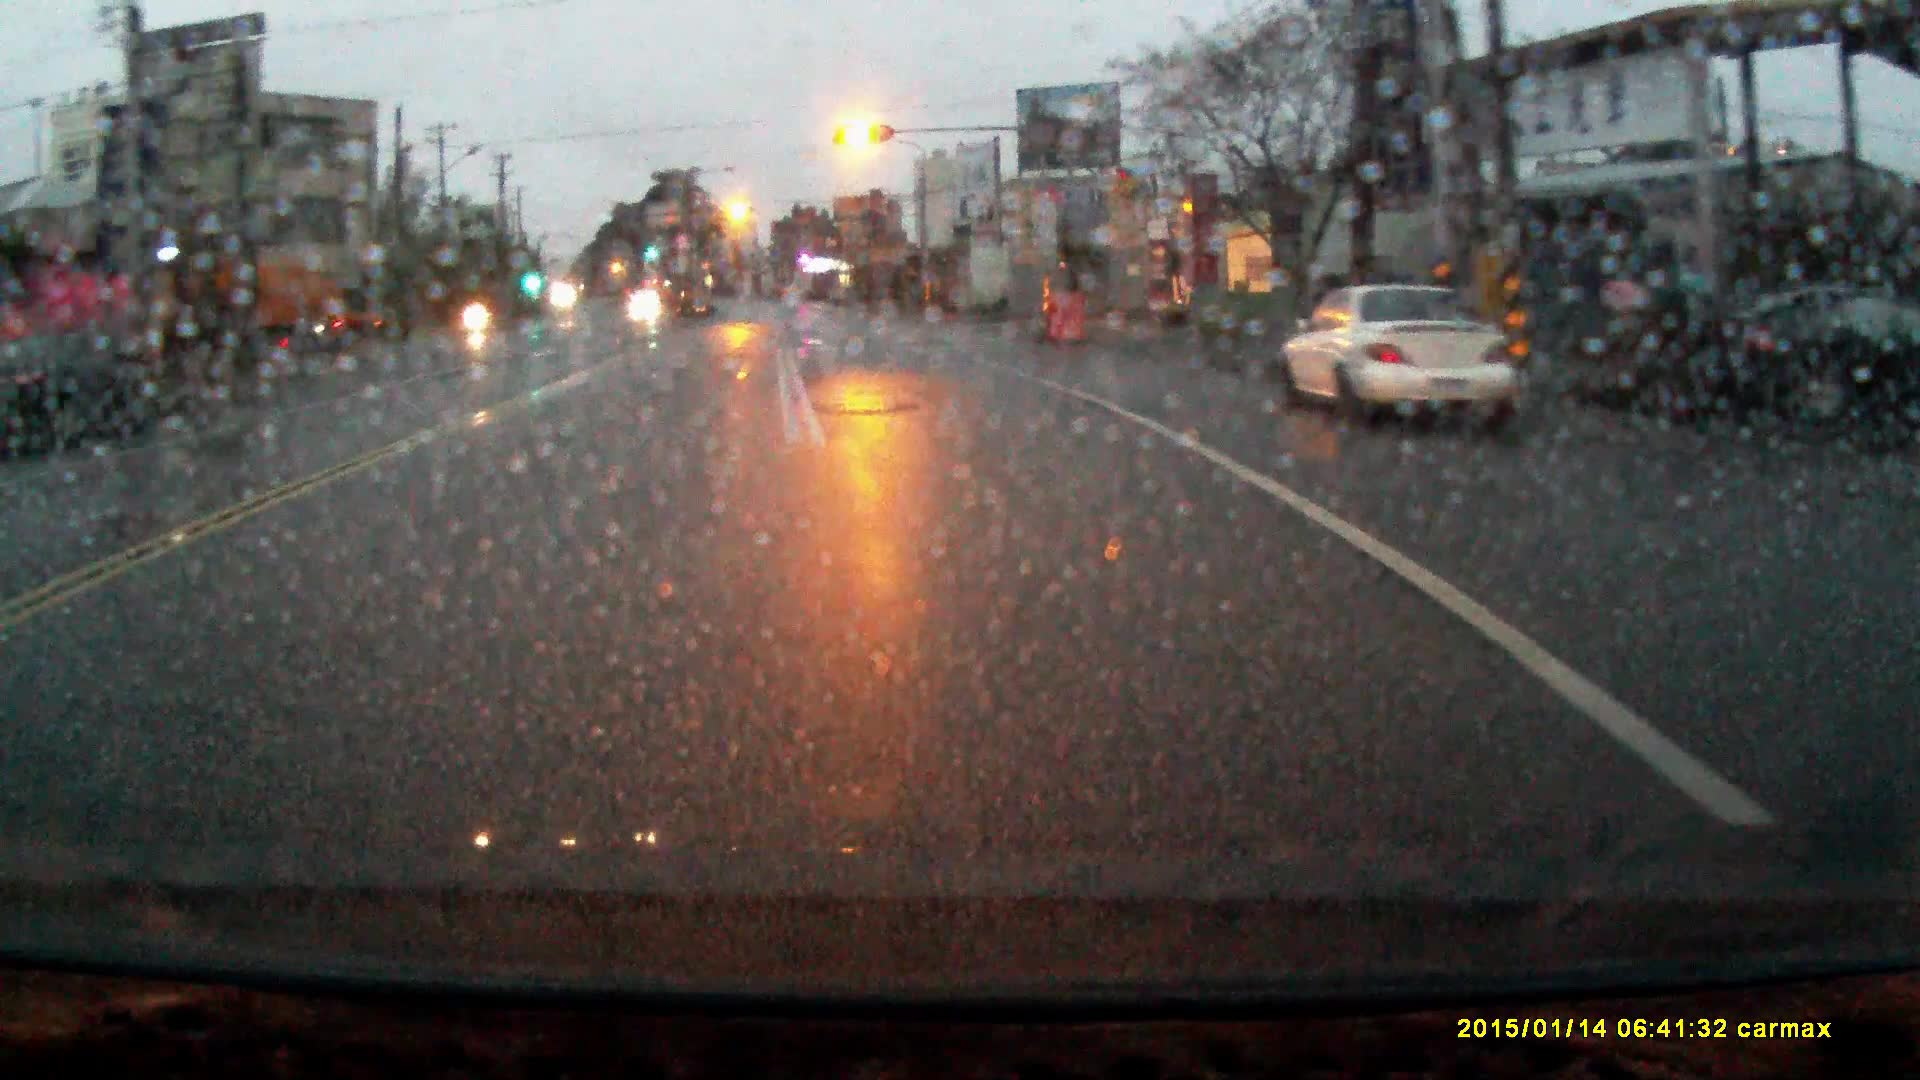rider: (461, 285, 493, 338)
vehicle: (1279, 293, 1534, 436), (173, 250, 392, 352), (13, 332, 174, 447), (628, 296, 661, 327)
